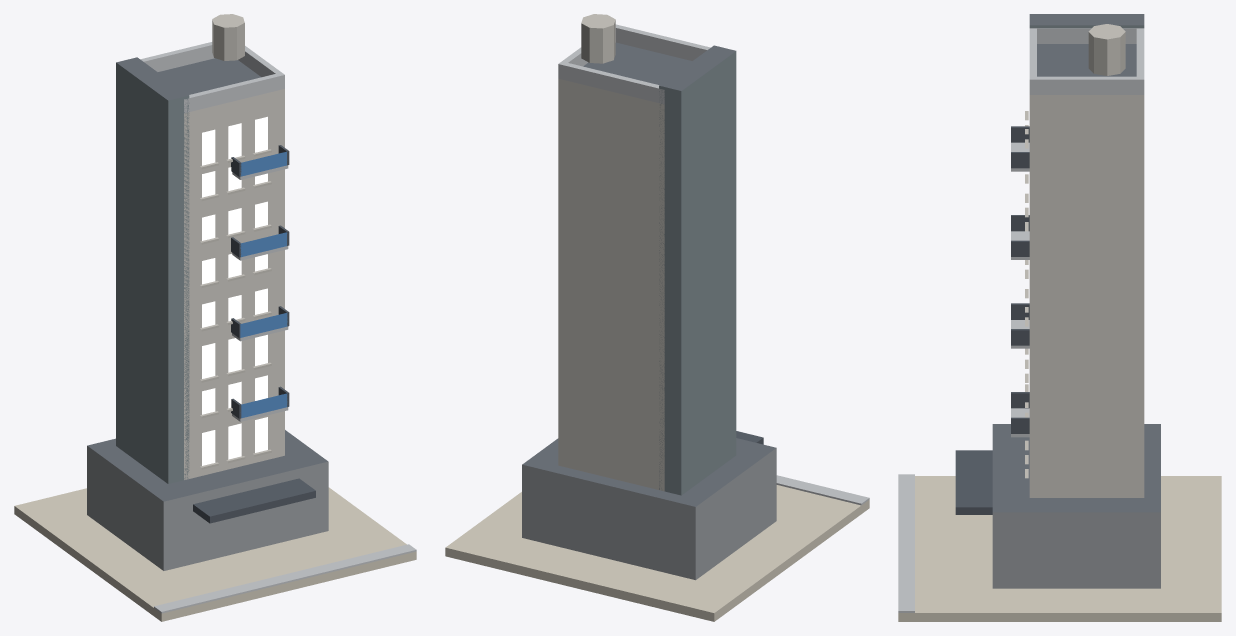
3 renders of one model, left to right at view 1: azimuth 30°, elevation 25°; view 2: azimuth 150°, elevation 25°; view 3: azimuth 270°, elevation 25°, orthographic. The views are drawn at different scales.
Visible parts, largest first — view 1: b07_v2_lod1; view 2: b07_v2_lod1; view 3: b07_v2_lod1.
Boxes of the visible parts, box(x1,y1,x2,y2) form: b07_v2_lod1: box(14, 14, 416, 621); b07_v2_lod1: box(445, 14, 869, 621); b07_v2_lod1: box(898, 14, 1221, 621).
Size of the model in its own units: 0.96 by 1.77 by 0.96.
